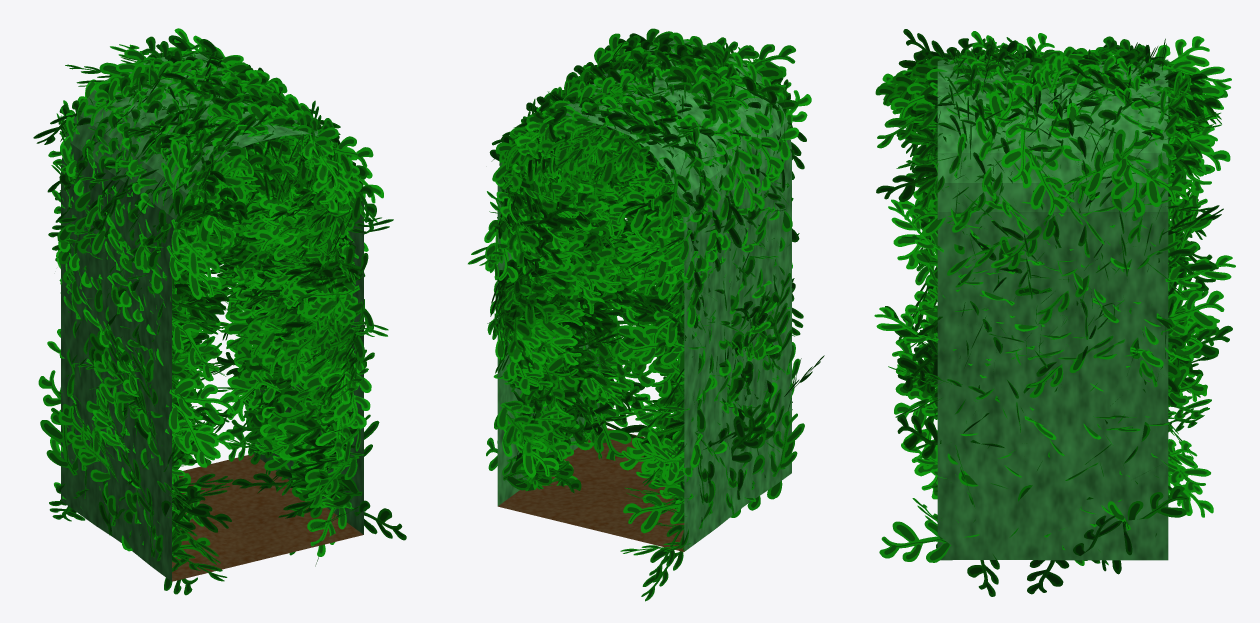
The model's file is StraightV2_2.fbx.
The picture shows the model from 3 angles, left to right: view 1: azimuth 30°, elevation 25°; view 2: azimuth 150°, elevation 25°; view 3: azimuth 270°, elevation 25°; orthographic projection. The views are drawn at different scales.
Visible parts, largest first — view 1: StraightV2.2, StraightV2.2|Plane|Dupli|1041, StraightV2.2|Plane|Dupli|1199, StraightV2.2|Plane|Dupli|1151, StraightV2.2|Plane|Dupli|154, StraightV2.2|Plane|Dupli|1520, StraightV2.2|Plane|Dupli|222, StraightV2.2|Plane|Dupli|1391, StraightV2.2|Plane|Dupli|1685, StraightV2.2|Plane|Dupli|756, StraightV2.2|Plane|Dupli|1409, StraightV2.2|Plane|Dupli|1237 (+28 smaller); view 2: StraightV2.2, StraightV2.2|Plane|Dupli|1531, StraightV2.2|Plane|Dupli|1664, StraightV2.2|Plane|Dupli|1521, StraightV2.2|Plane|Dupli|603, StraightV2.2|Plane|Dupli|1869, StraightV2.2|Plane|Dupli|1201, StraightV2.2|Plane|Dupli|1927, StraightV2.2|Plane|Dupli|1709, StraightV2.2|Plane|Dupli|174, StraightV2.2|Plane|Dupli|558, StraightV2.2|Plane|Dupli|1465 (+29 smaller); view 3: StraightV2.2, StraightV2.2|Plane|Dupli|1403, StraightV2.2|Plane|Dupli|1770, StraightV2.2|Plane|Dupli|380, StraightV2.2|Plane|Dupli|792, StraightV2.2|Plane|Dupli|732, StraightV2.2|Plane|Dupli|1865, StraightV2.2|Plane|Dupli|824, StraightV2.2|Plane|Dupli|1907, StraightV2.2|Plane|Dupli|1422, StraightV2.2|Plane|Dupli|756, StraightV2.2|Plane|Dupli|1273 (+29 smaller).
Part boxes in pixels (x1,y1,x2,y2): StraightV2.2: (61,53,363,581); StraightV2.2|Plane|Dupli|1041: (169,378,237,424); StraightV2.2|Plane|Dupli|1199: (168,402,218,467); StraightV2.2|Plane|Dupli|1151: (172,322,219,381); StraightV2.2|Plane|Dupli|154: (171,219,219,278); StraightV2.2|Plane|Dupli|1520: (40,404,78,475); StraightV2.2|Plane|Dupli|222: (166,244,221,299); StraightV2.2|Plane|Dupli|1391: (288,274,359,318); StraightV2.2|Plane|Dupli|1685: (71,427,110,481); StraightV2.2|Plane|Dupli|756: (303,134,350,191); StraightV2.2|Plane|Dupli|1409: (336,299,373,367); StraightV2.2|Plane|Dupli|1237: (304,456,358,508); StraightV2.2: (497,40,791,551); StraightV2.2|Plane|Dupli|1531: (623,485,693,533); StraightV2.2|Plane|Dupli|1664: (617,326,684,365); StraightV2.2|Plane|Dupli|1521: (642,292,696,346); StraightV2.2|Plane|Dupli|603: (609,182,674,231); StraightV2.2|Plane|Dupli|1869: (496,403,547,455); StraightV2.2|Plane|Dupli|1201: (770,411,804,476); StraightV2.2|Plane|Dupli|1927: (503,451,572,490); StraightV2.2|Plane|Dupli|1709: (634,228,691,281); StraightV2.2|Plane|Dupli|174: (733,150,764,211); StraightV2.2|Plane|Dupli|558: (659,168,690,230); StraightV2.2|Plane|Dupli|1465: (583,407,631,460); StraightV2.2: (937,59,1168,560); StraightV2.2|Plane|Dupli|1403: (879,520,951,562); StraightV2.2|Plane|Dupli|1770: (1156,290,1224,335); StraightV2.2|Plane|Dupli|380: (1123,155,1185,206); StraightV2.2|Plane|Dupli|792: (1021,155,1067,215); StraightV2.2|Plane|Dupli|732: (1001,116,1036,188); StraightV2.2|Plane|Dupli|1865: (1127,486,1189,520); StraightV2.2|Plane|Dupli|824: (976,89,1025,153); StraightV2.2|Plane|Dupli|1907: (1165,255,1235,288); StraightV2.2|Plane|Dupli|1422: (897,414,941,458); StraightV2.2|Plane|Dupli|756: (877,103,937,148); StraightV2.2|Plane|Dupli|1273: (874,307,938,342).
Bounding box in the file's own units: 180 × 304 × 201.
